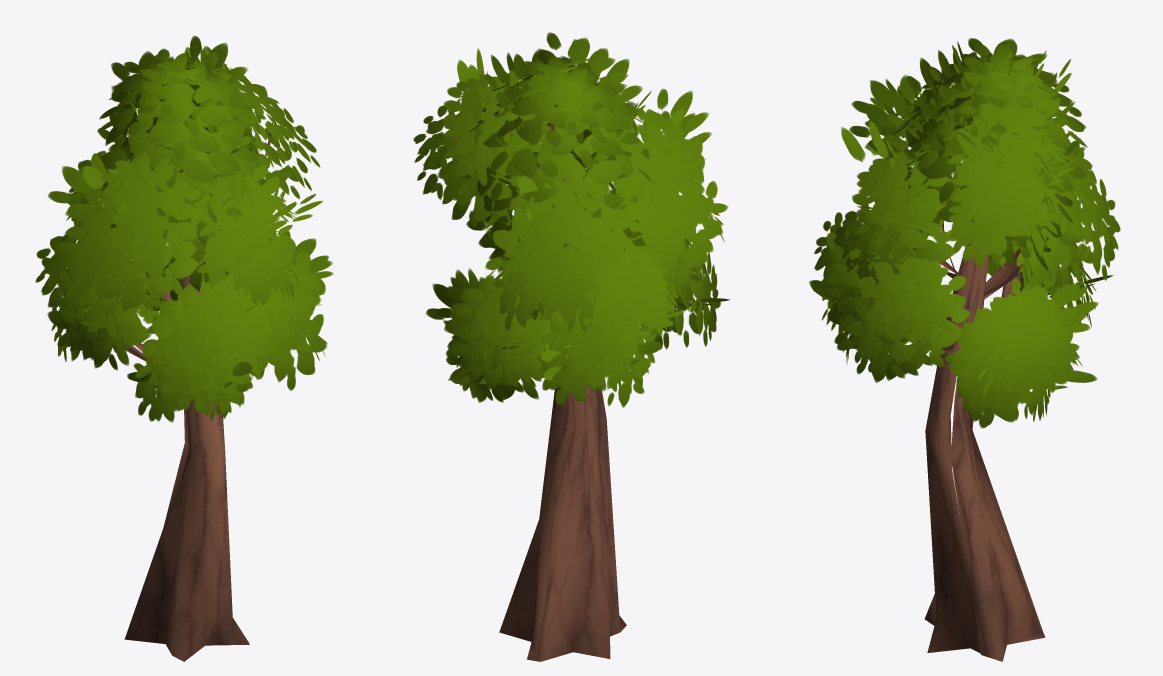
Rendered from tree.glb.
The picture shows the model from 3 angles, left to right: view 1: azimuth 30°, elevation 25°; view 2: azimuth 150°, elevation 25°; view 3: azimuth 270°, elevation 25°; orthographic projection. The views are drawn at different scales.
Parts seen in each view (by area): view 1: CommonTree_1, CommonTree_1.001; view 2: CommonTree_1, CommonTree_1.001; view 3: CommonTree_1, CommonTree_1.001.
Boxes of the visible parts, box(x1,y1,x2,y2) form: CommonTree_1: box(35, 35, 333, 422); CommonTree_1.001: box(124, 83, 273, 661); CommonTree_1: box(413, 32, 730, 407); CommonTree_1.001: box(454, 89, 638, 661); CommonTree_1: box(809, 38, 1120, 428); CommonTree_1.001: box(905, 219, 1045, 661).
Bounding box in the file's own units: 3.95 × 7.21 × 3.94.
Materials: 2 (2 with a texture image).
